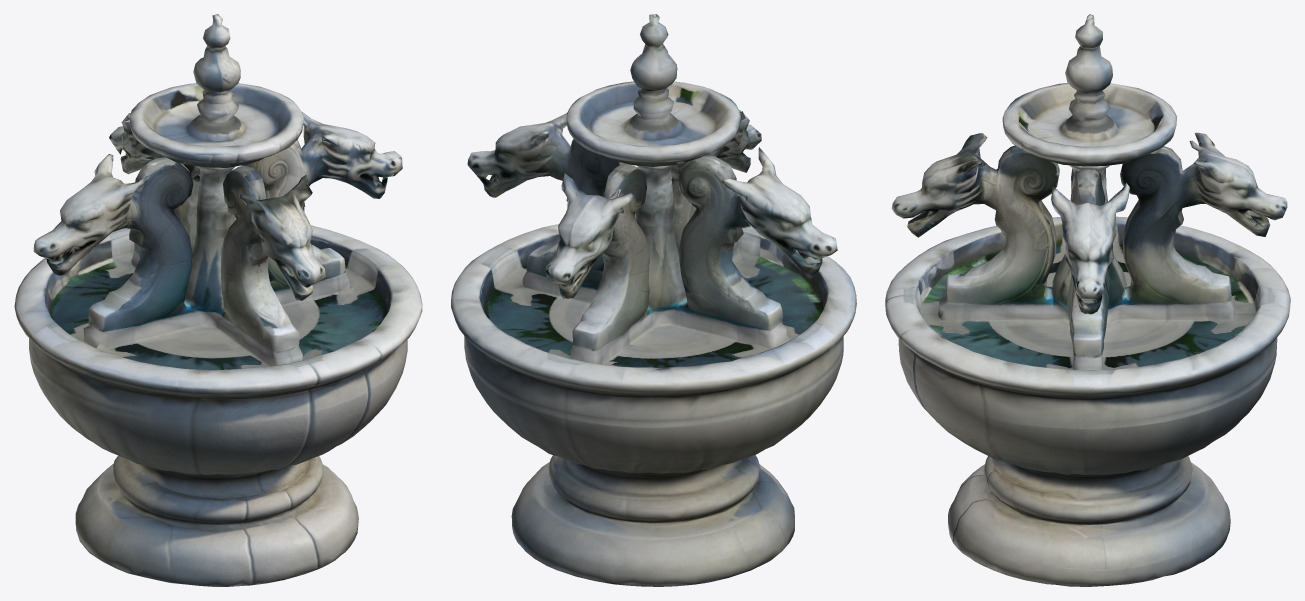
File: simple_stone_statue_f_0901224443_texture.fbx
3 renders of one model, left to right at view 1: azimuth 30°, elevation 25°; view 2: azimuth 150°, elevation 25°; view 3: azimuth 270°, elevation 25°, orthographic.
Visible parts, largest first — view 1: Mesh1.0; view 2: Mesh1.0; view 3: Mesh1.0.
Part boxes in pixels (x1,y1,x2,y2): Mesh1.0: [14, 14, 422, 586]; Mesh1.0: [451, 14, 856, 586]; Mesh1.0: [885, 14, 1290, 586].
Bounding box in the file's own units: 148 × 199 × 143.
1 material, 1 textured.
